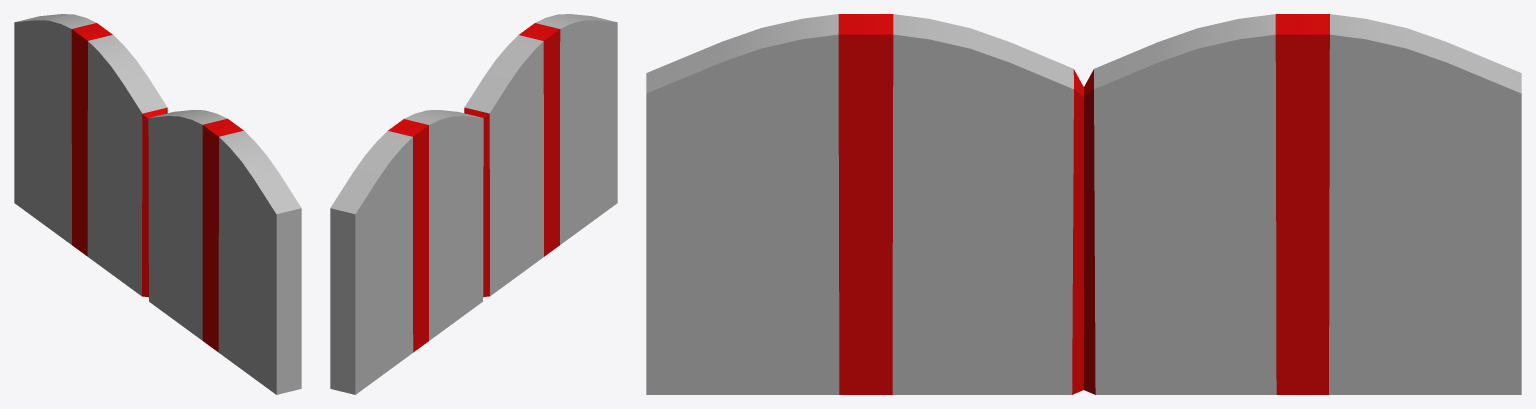
File: gate2.fbx
The picture shows the model from 3 angles, left to right: view 1: azimuth 30°, elevation 25°; view 2: azimuth 150°, elevation 25°; view 3: azimuth 270°, elevation 25°; orthographic projection. The views are drawn at different scales.
Parts seen in each view (by area): view 1: polySurface1, polySurface2; view 2: polySurface2, polySurface1; view 3: polySurface1, polySurface2.
Boxes of the visible parts, x1,y1,x2,y2 form: polySurface1: [148, 110, 301, 394]; polySurface2: [14, 14, 167, 297]; polySurface2: [330, 110, 483, 394]; polySurface1: [464, 14, 617, 296]; polySurface1: [646, 14, 1083, 394]; polySurface2: [1084, 14, 1521, 394].
Size of the model in its own units: 0.2643 by 2.16 by 4.76.
